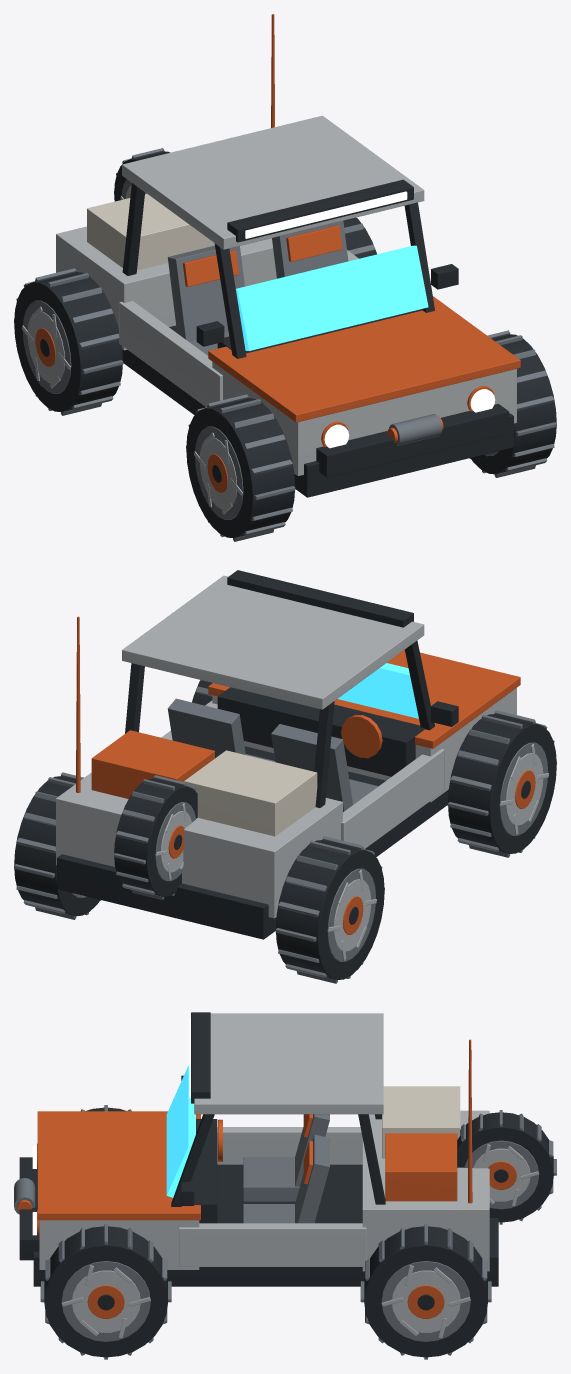
File: buggy_drivable.glb
3 renders of one model, top to bottom at view 1: azimuth 30°, elevation 25°; view 2: azimuth 150°, elevation 25°; view 3: azimuth 270°, elevation 25°, orthographic. The views are drawn at different scales.
Parts seen in each view (by area): view 1: Chassis, Wheel_LF, Wheel_LB, Wheel_RF, Wheel_RB; view 2: Chassis, Wheel_LB, Wheel_LF, Wheel_RB; view 3: Chassis, Wheel_RB, Wheel_RF.
Part boxes in pixels (bbox=[...]): Chassis: bbox=[56, 14, 520, 497]; Wheel_LF: bbox=[186, 394, 295, 541]; Wheel_LB: bbox=[14, 268, 123, 415]; Wheel_RF: bbox=[469, 330, 556, 477]; Wheel_RB: bbox=[343, 217, 376, 258]; Chassis: bbox=[56, 570, 520, 939]; Wheel_LB: bbox=[275, 836, 384, 983]; Wheel_LF: bbox=[447, 710, 556, 857]; Wheel_RB: bbox=[14, 772, 101, 919]; Chassis: bbox=[14, 1012, 556, 1286]; Wheel_RB: bbox=[360, 1223, 491, 1359]; Wheel_RF: bbox=[40, 1223, 171, 1359].
Size of the model in its own units: 2.04 by 2 by 3.33.
